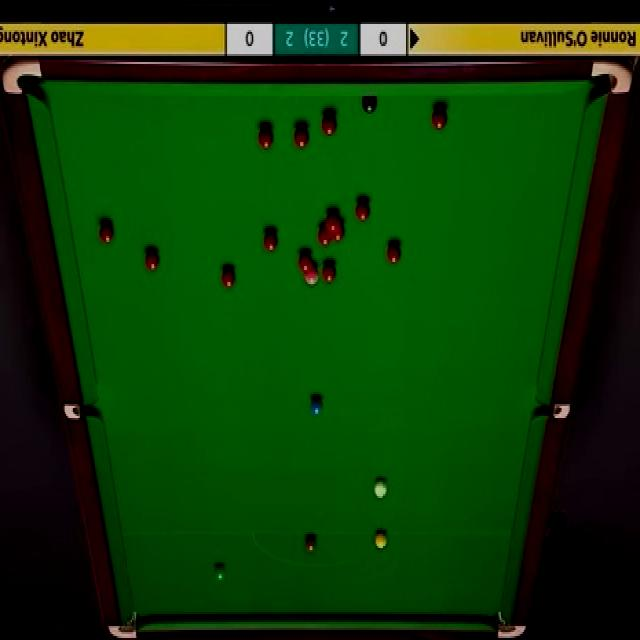black-ball: (361, 95, 378, 114)
blue-ball: (310, 395, 324, 420)
brown-ball: (305, 534, 317, 552)
green-ball: (213, 562, 228, 582)
pink-ball: (304, 264, 317, 286)
red-ball: (220, 262, 237, 291), (98, 217, 115, 245), (431, 106, 448, 131), (258, 125, 274, 151), (143, 248, 160, 272), (385, 239, 401, 263), (294, 124, 309, 149), (264, 228, 279, 253), (322, 112, 336, 137), (318, 222, 332, 246), (356, 199, 370, 222), (298, 252, 312, 274), (322, 262, 336, 281), (326, 210, 339, 230), (332, 222, 345, 242)
white-ball: (373, 474, 389, 501)
yellow-ball: (375, 531, 388, 551)
